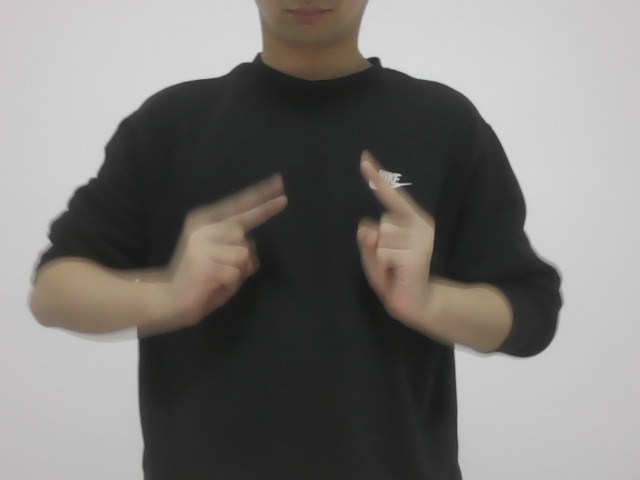know: (183, 152, 444, 329)
